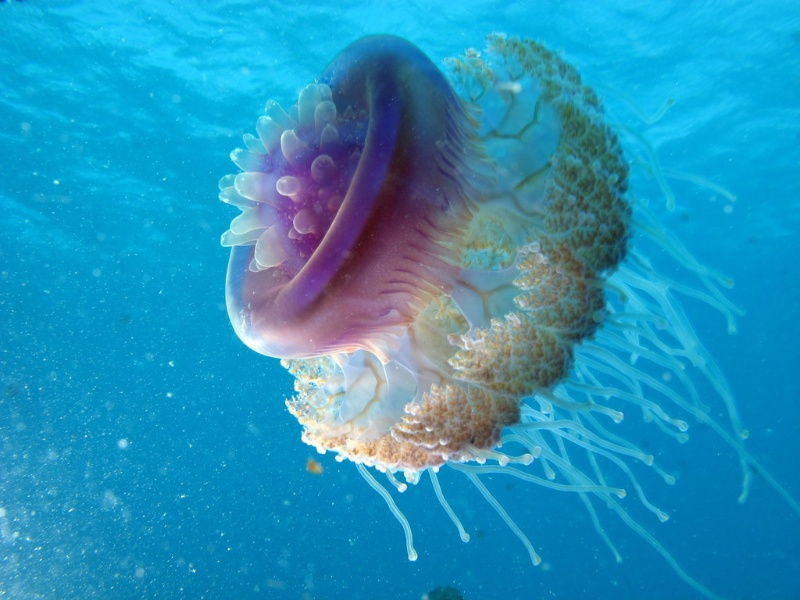Jellyfish: (216, 28, 798, 599)
